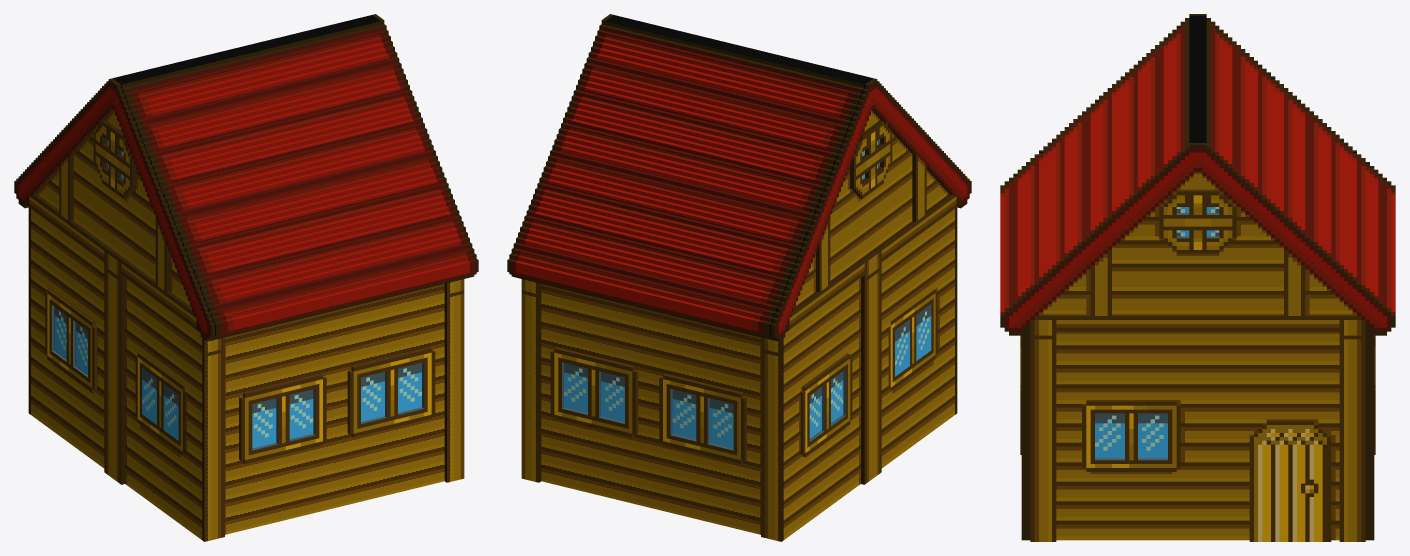
File: Buildings.glb
3 views of the same model, side by side, from view 1: azimuth 30°, elevation 25°; view 2: azimuth 150°, elevation 25°; view 3: azimuth 270°, elevation 25° (orthographic).
Visible parts, largest first — view 1: teulada-col, fachada-col, parets-col, finestra.004-col, finestra.005-col, finestra.003-col; view 2: teulada-col, fachada-col, parets-col, finestra.004-col, finestra.005-col, finestra.003-col; view 3: fachada-col, teulada-col, finestra.001-col, parets-col.
Boxes of the visible parts, <box> form: teulada-col: <box>113,15,474,340</box>; fachada-col: <box>14,14,478,539</box>; parets-col: <box>28,207,464,541</box>; finestra.004-col: <box>347,347,435,437</box>; finestra.005-col: <box>239,373,326,463</box>; finestra.003-col: <box>45,289,96,392</box>; teulada-col: <box>511,15,872,340</box>; fachada-col: <box>507,14,971,539</box>; parets-col: <box>521,207,957,541</box>; finestra.004-col: <box>550,347,638,437</box>; finestra.005-col: <box>659,373,746,463</box>; finestra.003-col: <box>800,354,852,456</box>; fachada-col: <box>1000,14,1395,541</box>; teulada-col: <box>1000,15,1395,314</box>; finestra.001-col: <box>1082,400,1180,471</box>; parets-col: <box>1021,331,1374,540</box>.
Size of the model in its own units: 0.73 by 1.02 by 0.92.
3 materials, 3 textured.
